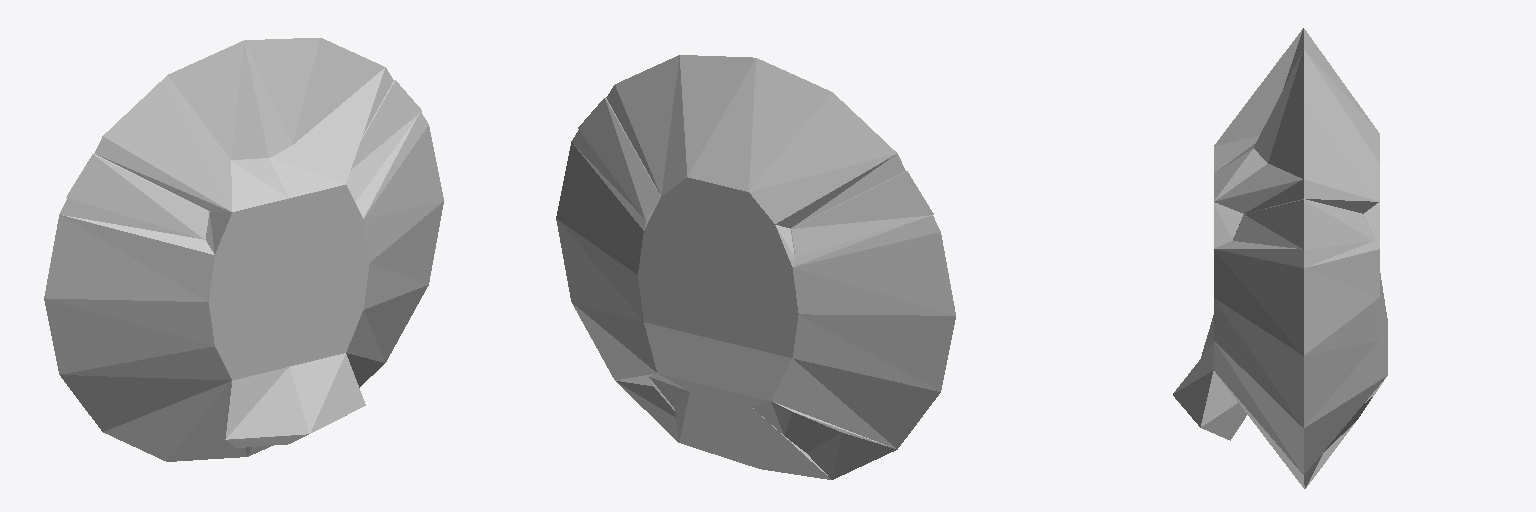
File: shield1.obj
3 renders of one model, left to right at view 1: azimuth 30°, elevation 25°; view 2: azimuth 150°, elevation 25°; view 3: azimuth 270°, elevation 25°, orthographic.
Parts seen in each view (by area): view 1: Sphere_Sphere.001; view 2: Sphere_Sphere.001; view 3: Sphere_Sphere.001.
Part boxes in pixels (x1,y1,x2,y2): Sphere_Sphere.001: (44,38,443,461); Sphere_Sphere.001: (556,55,955,479); Sphere_Sphere.001: (1173,28,1387,488).
Bounding box in the file's own units: 0.5277 × 0.5219 × 0.2461.